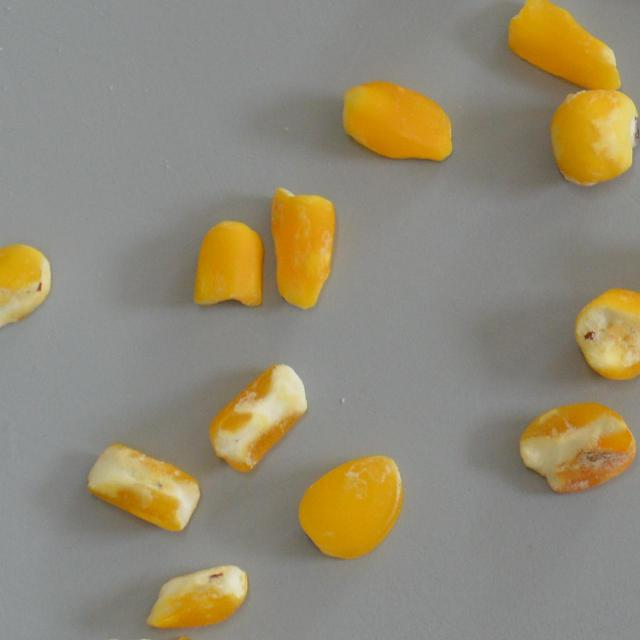dañado: (516, 398, 640, 498), (144, 562, 252, 632)
estandar: (497, 0, 630, 94), (338, 74, 454, 172), (193, 213, 264, 309)
pelicula: (296, 453, 404, 561), (268, 184, 338, 310)
punto_negro: (208, 362, 322, 474), (86, 432, 201, 535), (546, 88, 640, 188), (572, 282, 640, 382), (0, 241, 54, 344)
